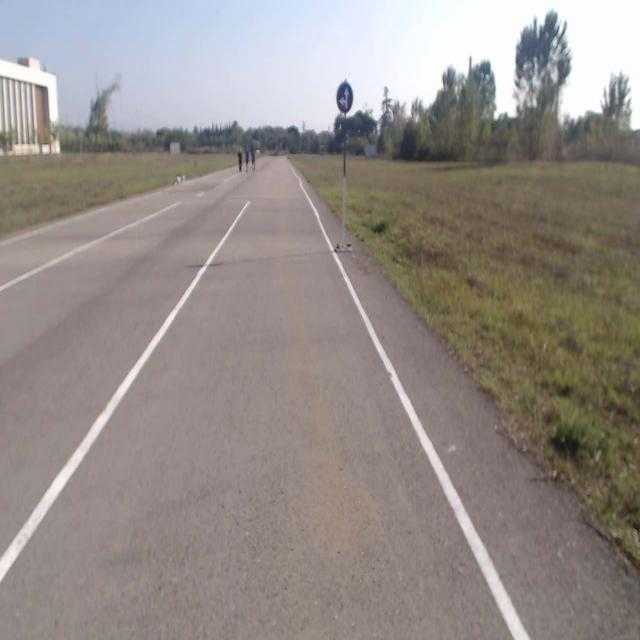ilerisol: (337, 82, 353, 114)
